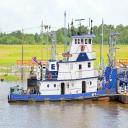tugboat: (8, 19, 123, 108)
